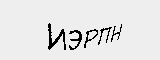И: (45, 21, 66, 49)
Н: (109, 20, 125, 45)
П: (96, 25, 111, 51)
Р: (83, 23, 99, 51)
Э: (69, 26, 83, 51)
